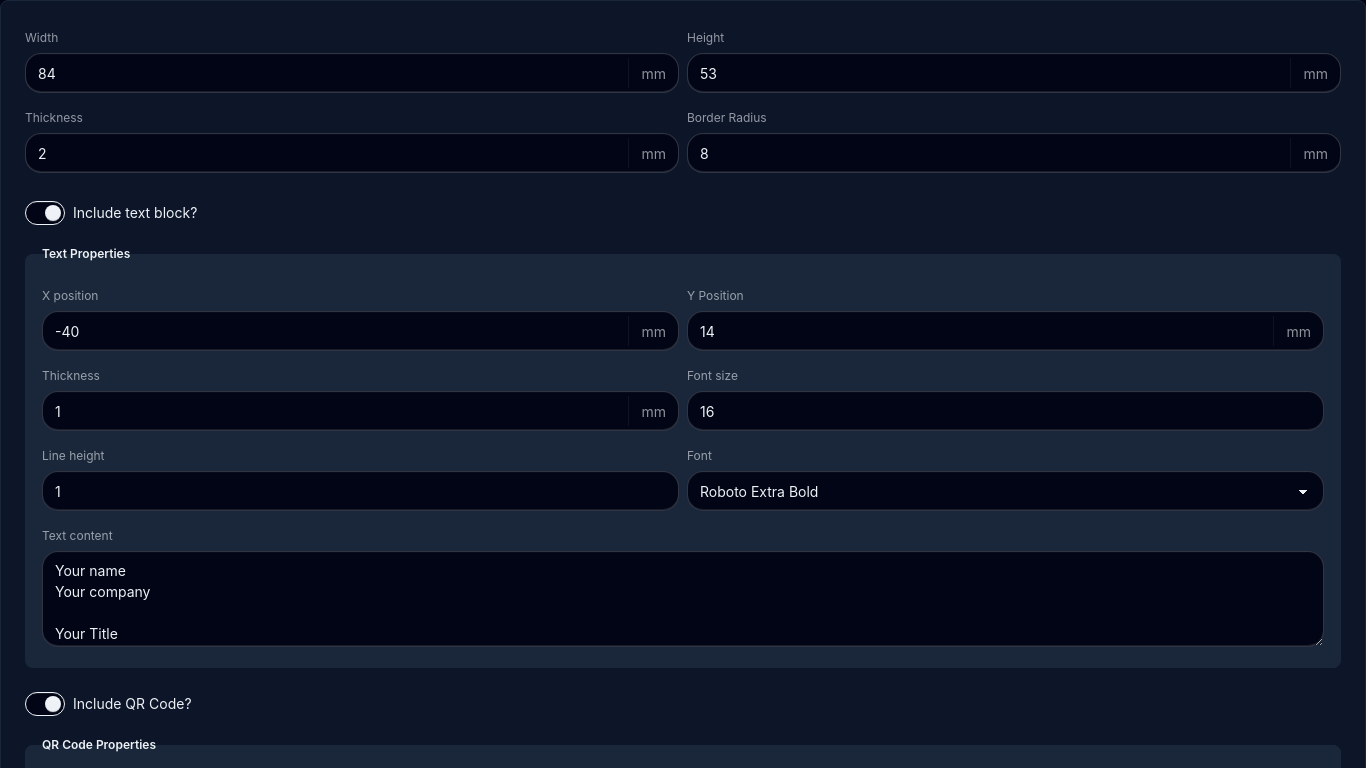
Scenario: CardForm › starts with every property group on and editable, then locks them when turned off
Expected: the number field labelled "Font size" is enabled, 700,392 -> 1311,430
Click the switch labelled "Include text block?". click: (45, 213)
box: 25,201 -> 65,225
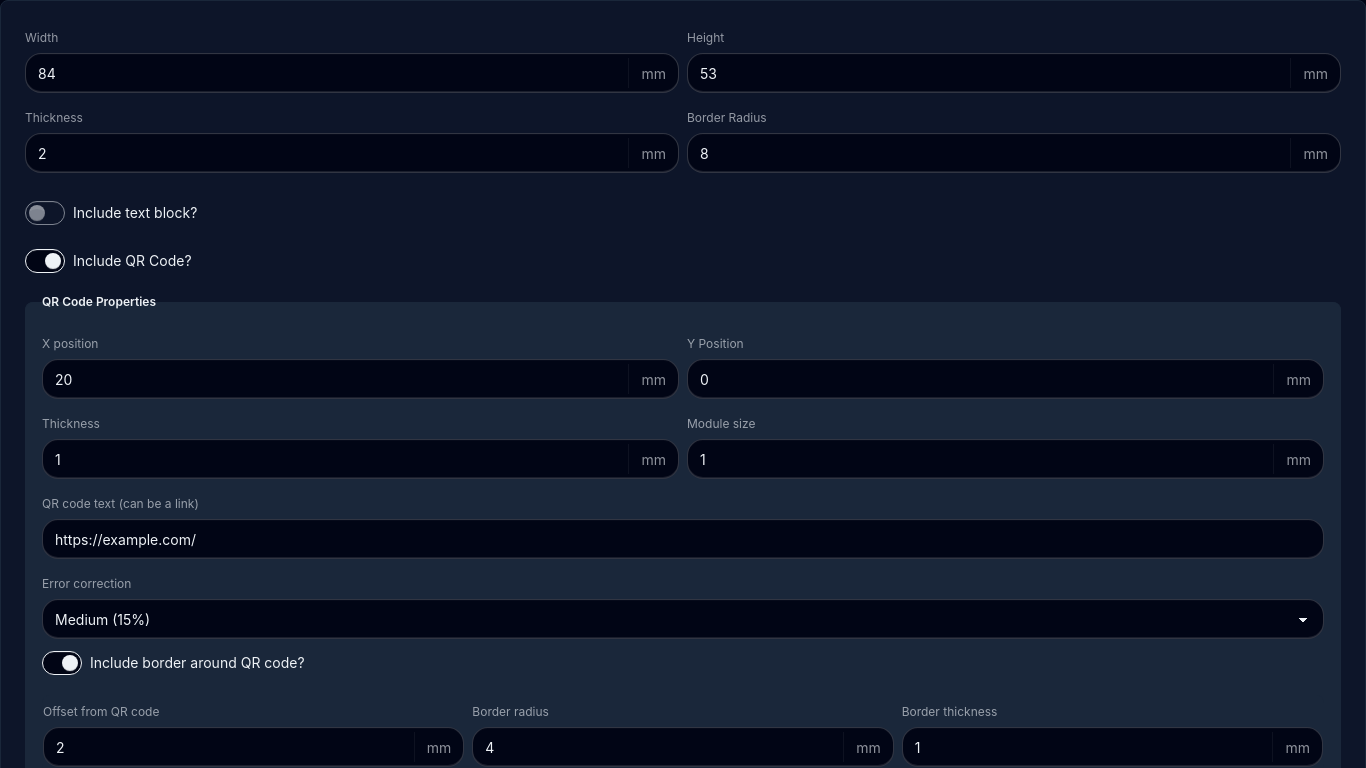
Expected: the dropdown labelled "Error correction" is enabled, 42,599 -> 1324,639
Expected: the switch labelled "Include text block?" is not checked, 25,201 -> 65,225
Expected: the text "Text Properties" is gone
Click the switch labelled "Include QR Code?". click: (45, 261)
box: 25,249 -> 65,273
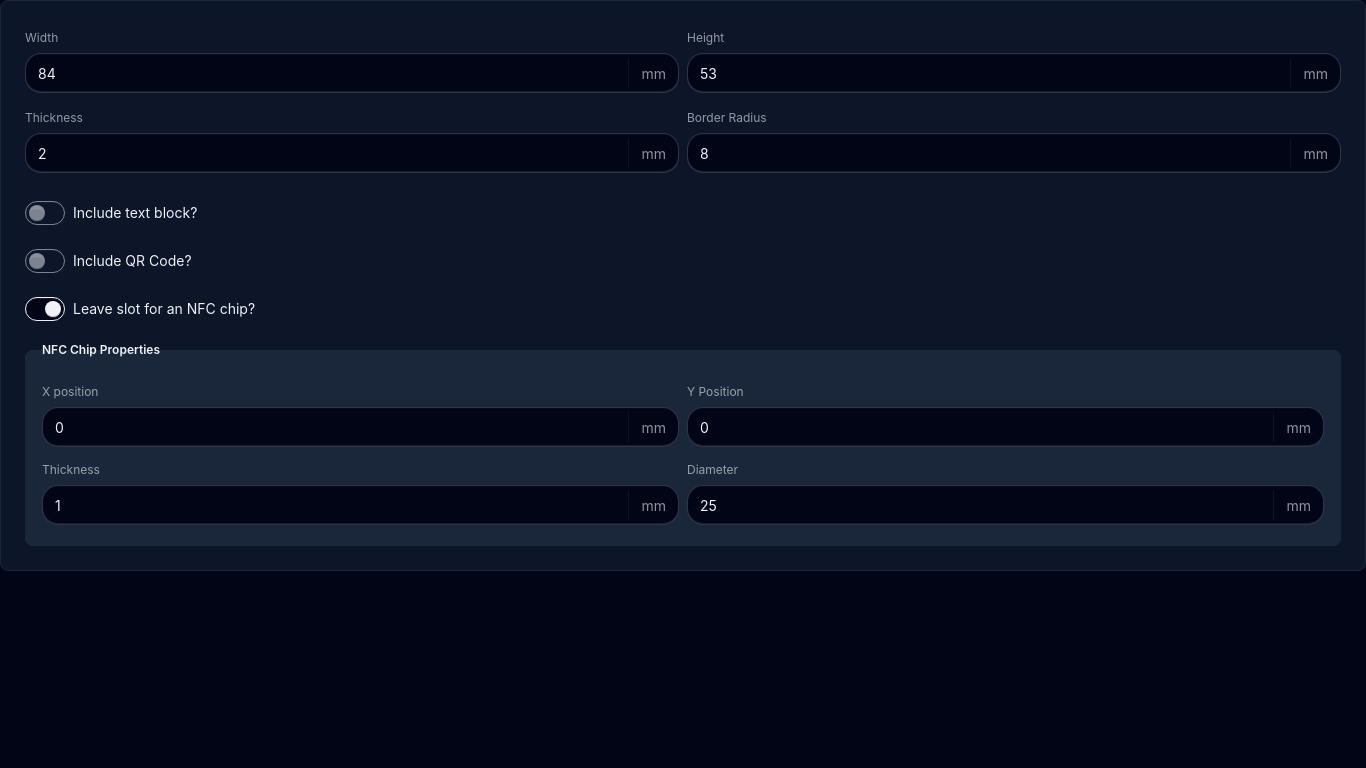
Expected: the number field labelled "Diameter" is enabled, 700,486 -> 1254,524
Expected: the switch labelled "Include QR Code?" is not checked, 25,249 -> 65,273
Expected: the text "QR Code Properties" is gone
Click the switch labelled "Leave slot for an NFC chip?". click: (45, 309)
box: 25,297 -> 65,321
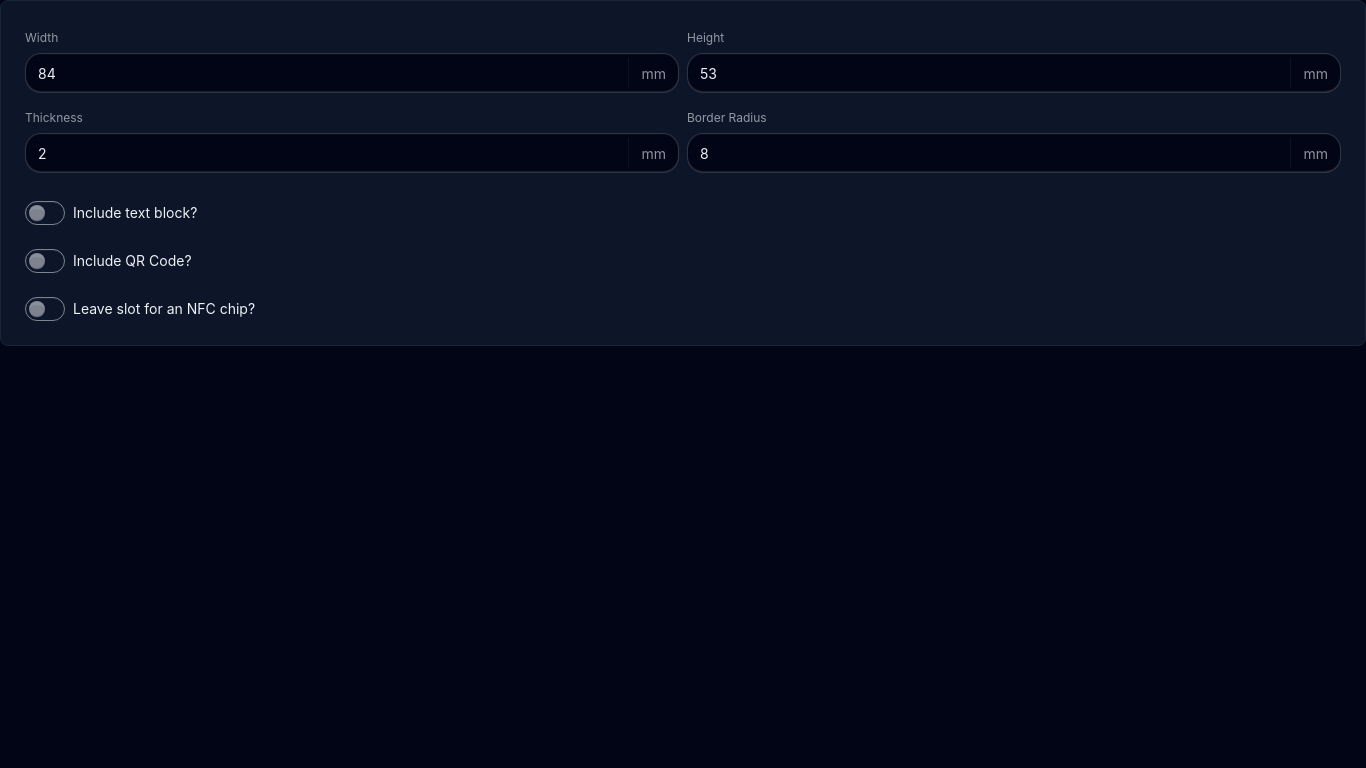
Expected: the switch labelled "Leave slot for an NFC chip?" is not checked, 25,297 -> 65,321
Expected: the text "NFC Chip Properties" is gone
